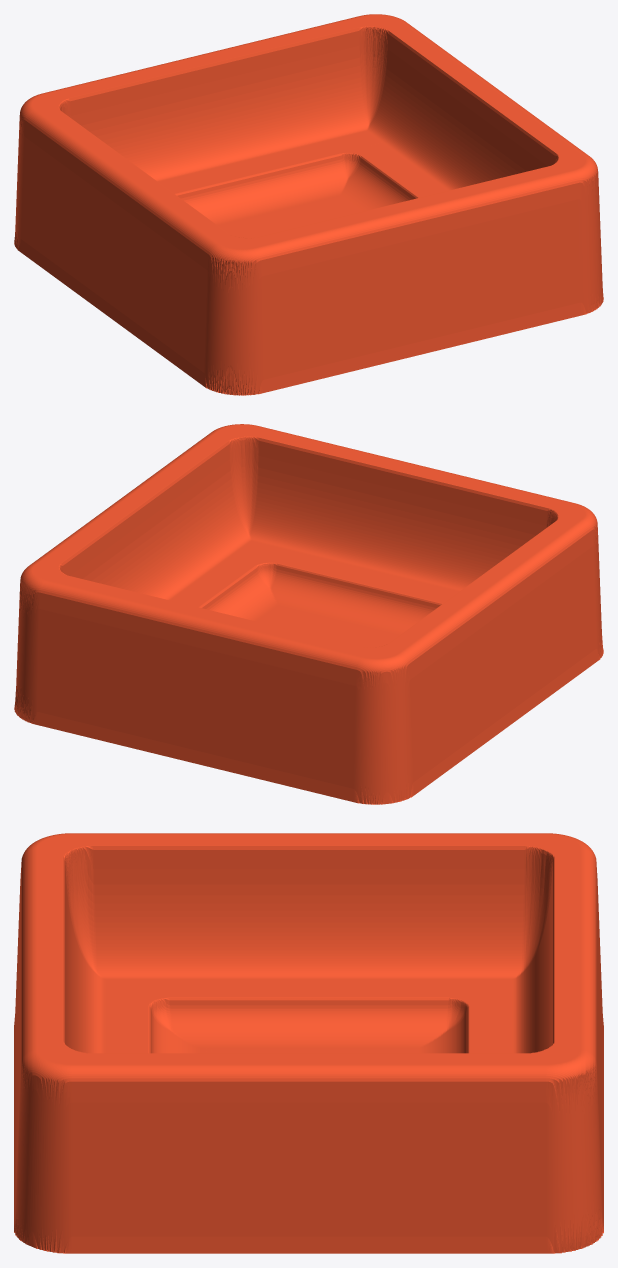
File: mold.glb
3 views of the same model, one above another, from view 1: azimuth 30°, elevation 25°; view 2: azimuth 150°, elevation 25°; view 3: azimuth 270°, elevation 25° (orthographic). The views are drawn at different scales.
Parts seen in each view (by area): view 1: geometry_0; view 2: geometry_0; view 3: geometry_0.
Part boxes in pixels (<box>): geometry_0: <box>14,14,603,395</box>; geometry_0: <box>14,424,603,804</box>; geometry_0: <box>14,833,603,1253</box>.
Size of the model in its own units: 0.0924 by 0.031 by 0.0924.
